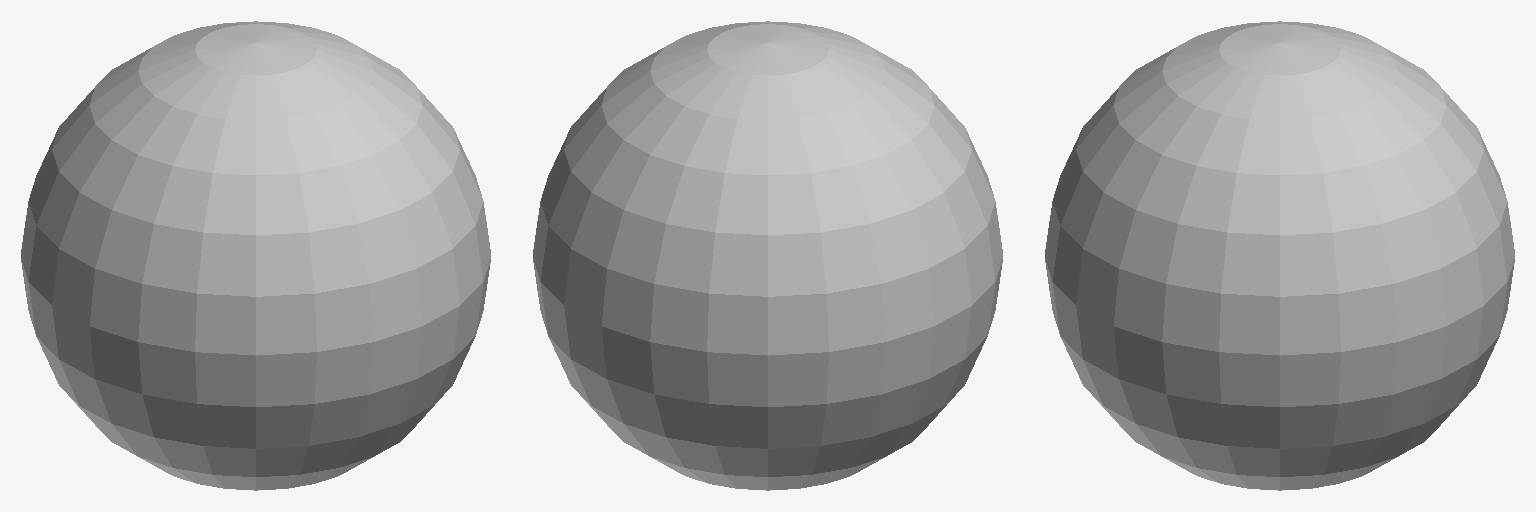
The model's file is prestaget.obj.
The picture shows the model from 3 angles: view 1: azimuth 30°, elevation 25°; view 2: azimuth 150°, elevation 25°; view 3: azimuth 270°, elevation 25°; orthographic projection.
Parts seen in each view (by area): view 1: Skydome; view 2: Skydome; view 3: Skydome.
Boxes of the visible parts, <box> form: Skydome: <box>21,21,490,490</box>; Skydome: <box>533,21,1002,490</box>; Skydome: <box>1045,21,1514,490</box>.
Bounding box in the file's own units: 1400 × 1400 × 1400.